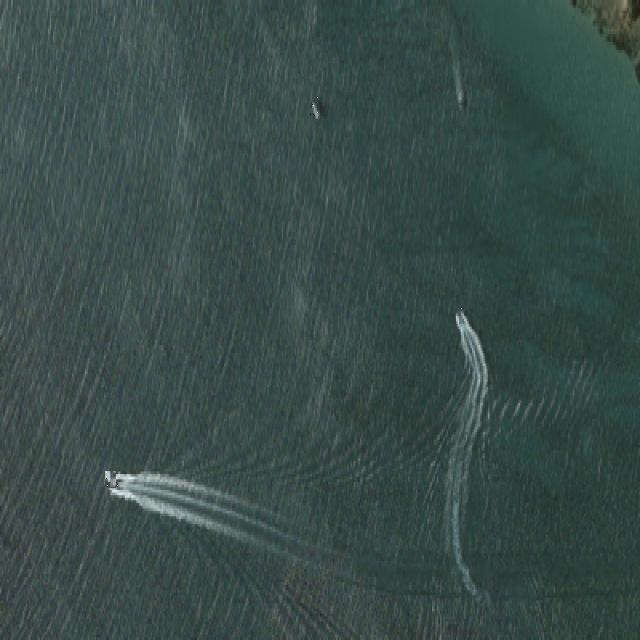boat: (104, 472, 118, 487), (310, 97, 318, 116), (455, 307, 462, 315), (458, 95, 460, 108)
